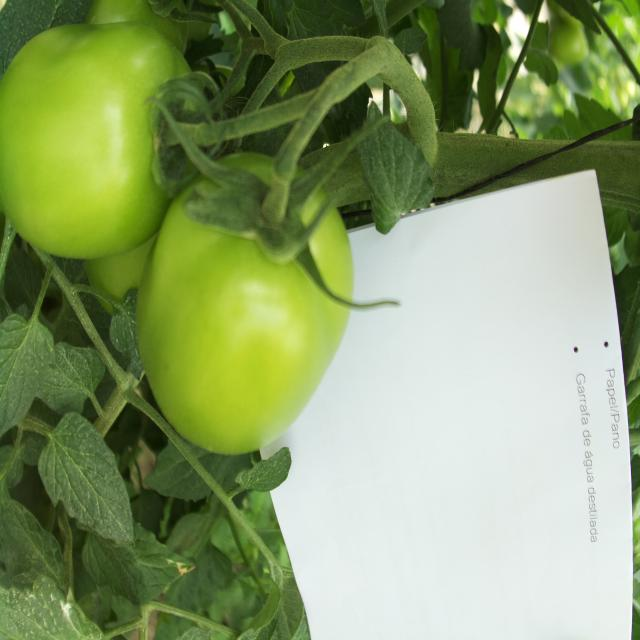yesil: (0, 8, 374, 459)
